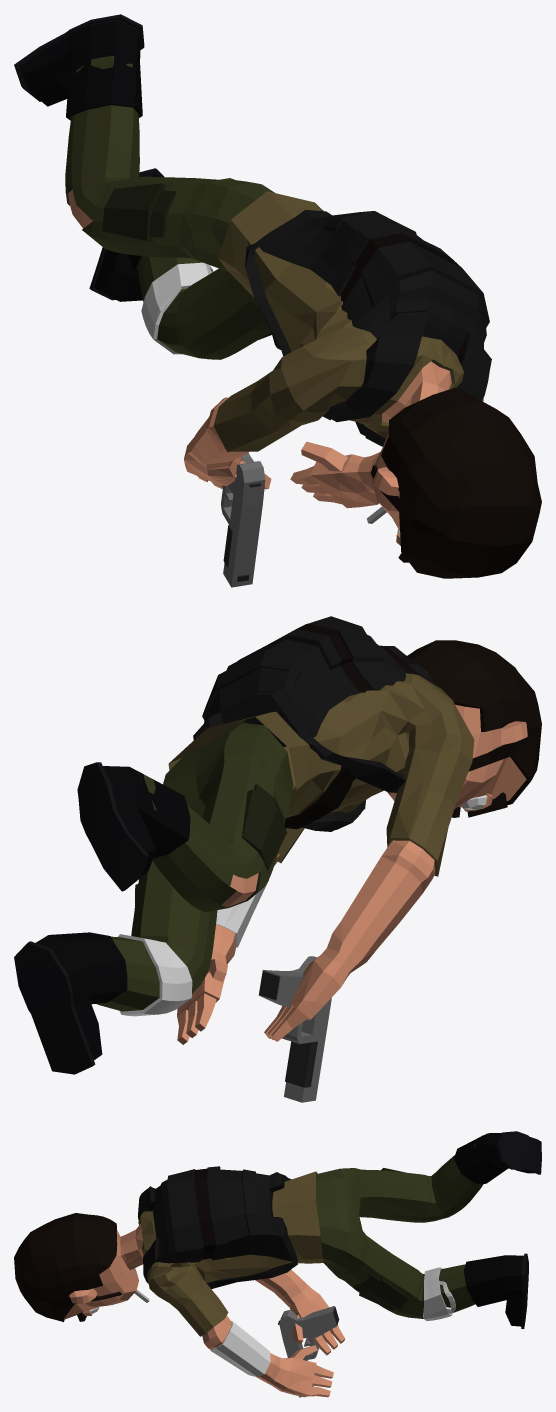
Rendered from frame_0054.obj.
The picture shows the model from 3 angles, top to bottom: view 1: azimuth 30°, elevation 25°; view 2: azimuth 150°, elevation 25°; view 3: azimuth 270°, elevation 25°; orthographic projection. The views are drawn at different scales.
Parts seen in each view (by area): view 1: Body, Gun; view 2: Body, Gun; view 3: Body, Gun.
Boxes of the visible parts, left/top/right/bottom form: Body: left=14, top=14, right=541, bottom=578; Gun: left=221, top=453, right=265, bottom=587; Body: left=14, top=616, right=541, bottom=1074; Gun: left=258, top=956, right=331, bottom=1102; Body: left=14, top=1131, right=541, bottom=1397; Gun: left=278, top=1306, right=339, bottom=1397.
Size of the model in its own units: 1.27 by 2.31 by 4.01.
